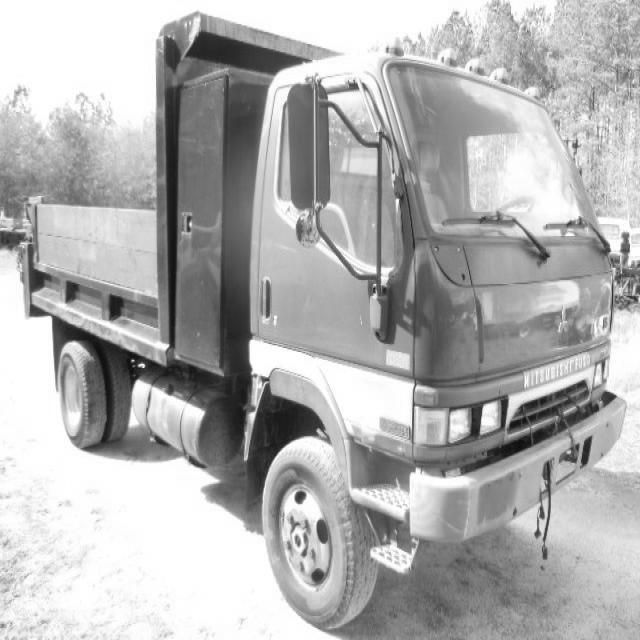truck: (221, 25, 640, 579)
